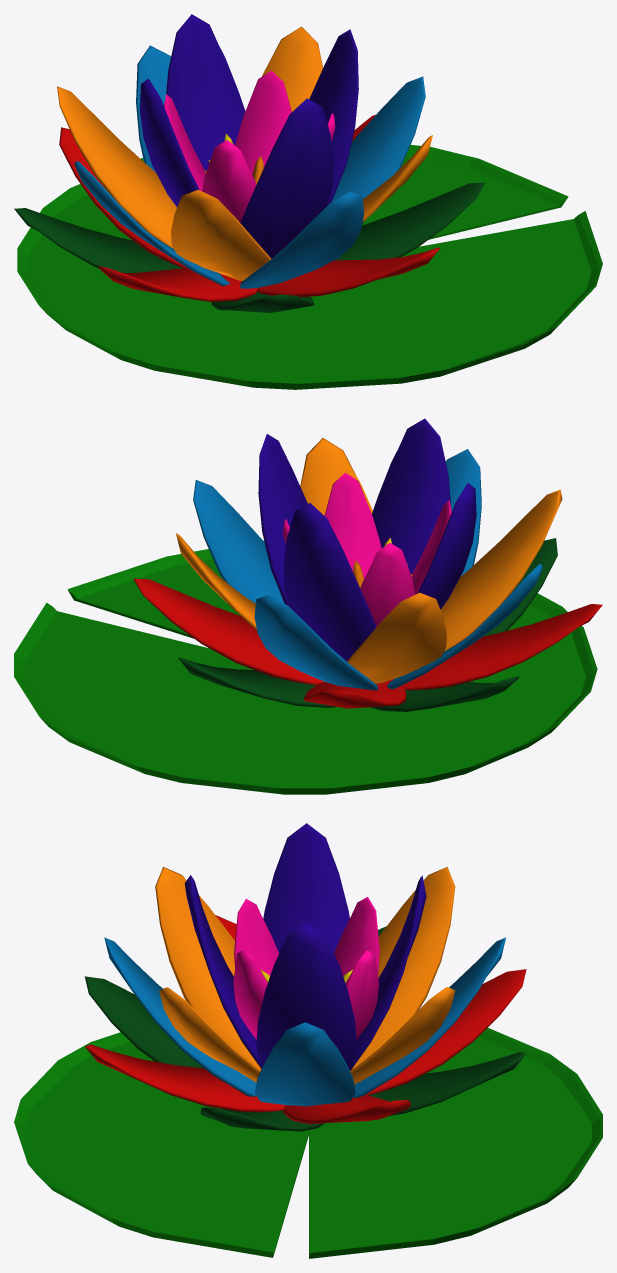
The model's file is Waterlily_fullBloom.fbx.
3 renders of one model, top to bottom at view 1: azimuth 30°, elevation 25°; view 2: azimuth 150°, elevation 25°; view 3: azimuth 270°, elevation 25°, orthographic.
Parts seen in each view (by area): view 1: waterlily; view 2: waterlily; view 3: waterlily.
Boxes of the visible parts, x1=… form: waterlily: x1=14, y1=14, x2=602, y2=389; waterlily: x1=14, y1=418, x2=602, y2=794; waterlily: x1=14, y1=823, x2=602, y2=1258.
Bounding box in the file's own units: 5.12 × 2.22 × 5.07.
